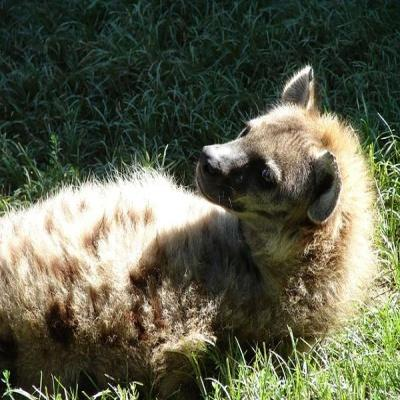hyenas: (2, 72, 400, 370)
